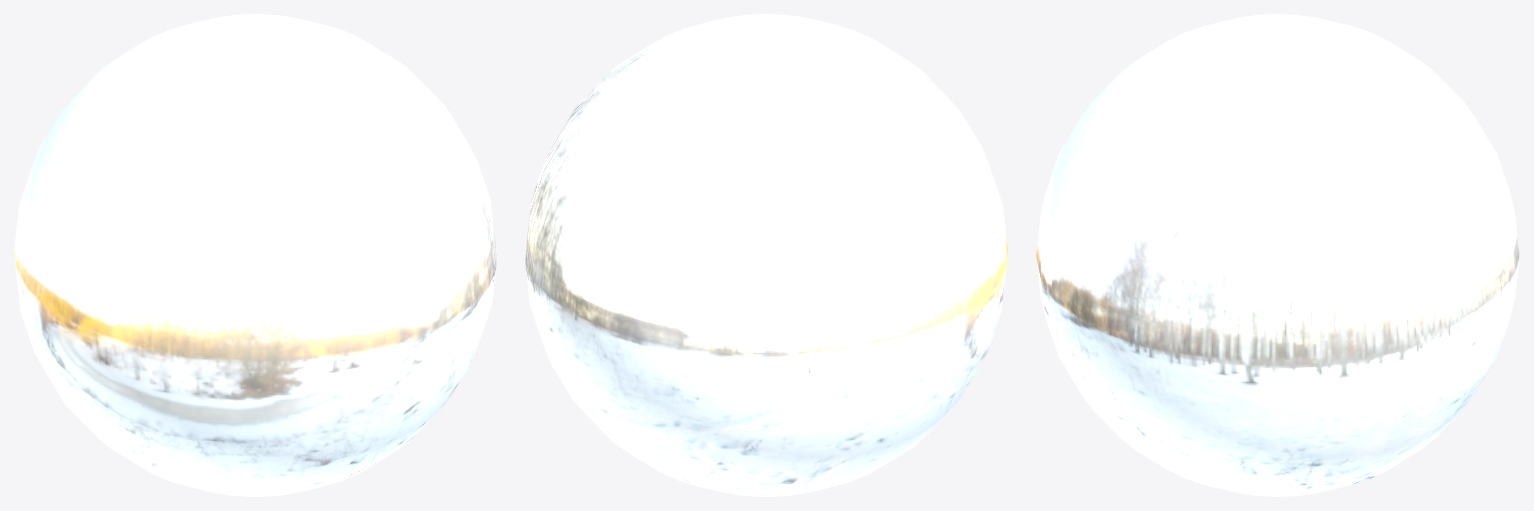
Rendered from T-GALLERY.glb.
3 views of the same model, side by side, from view 1: azimuth 30°, elevation 25°; view 2: azimuth 150°, elevation 25°; view 3: azimuth 270°, elevation 25° (orthographic).
Visible parts, largest first — view 1: ENVIRONMENT; view 2: ENVIRONMENT; view 3: ENVIRONMENT.
Boxes of the visible parts, x1=… form: ENVIRONMENT: x1=14, y1=14, x2=496, y2=496; ENVIRONMENT: x1=525, y1=14, x2=1007, y2=496; ENVIRONMENT: x1=1036, y1=14, x2=1519, y2=496.
Size of what is drawn, in the model's own units: 152 by 152 by 152.
